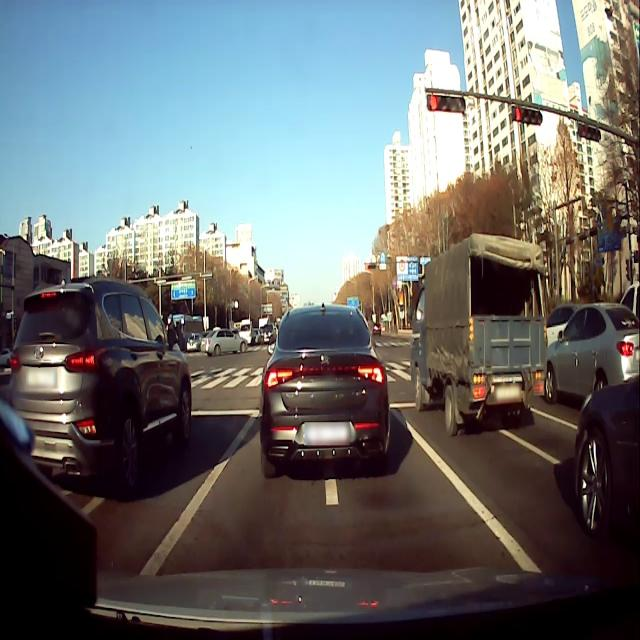Red Light: (428, 92, 440, 112), (513, 106, 522, 121)
